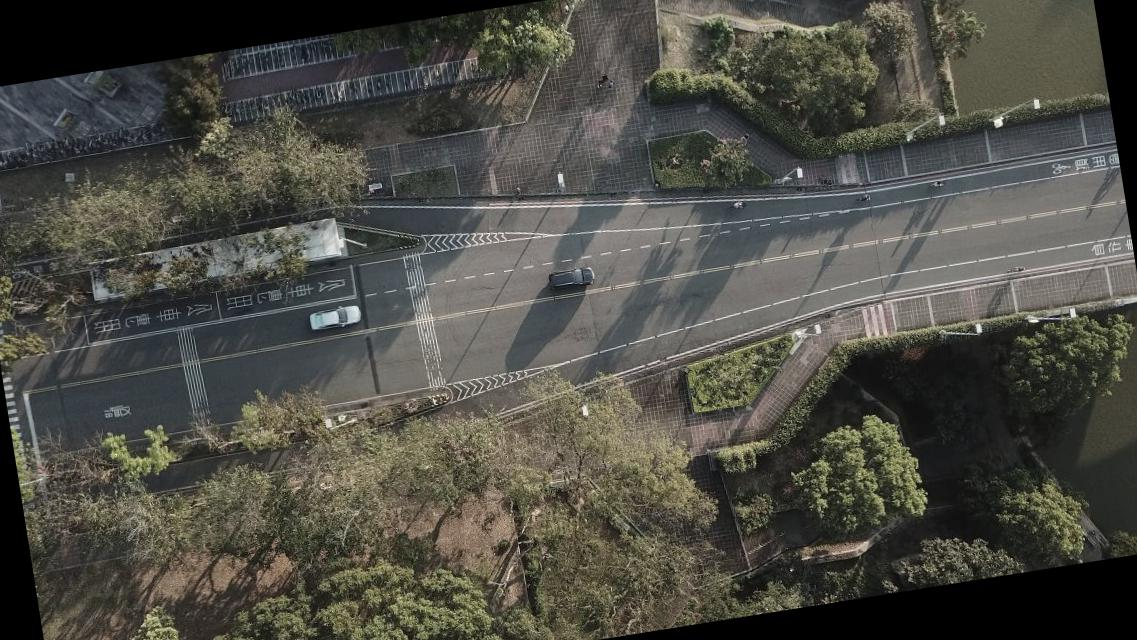vehicle: (307, 302, 362, 332), (547, 264, 596, 292)
